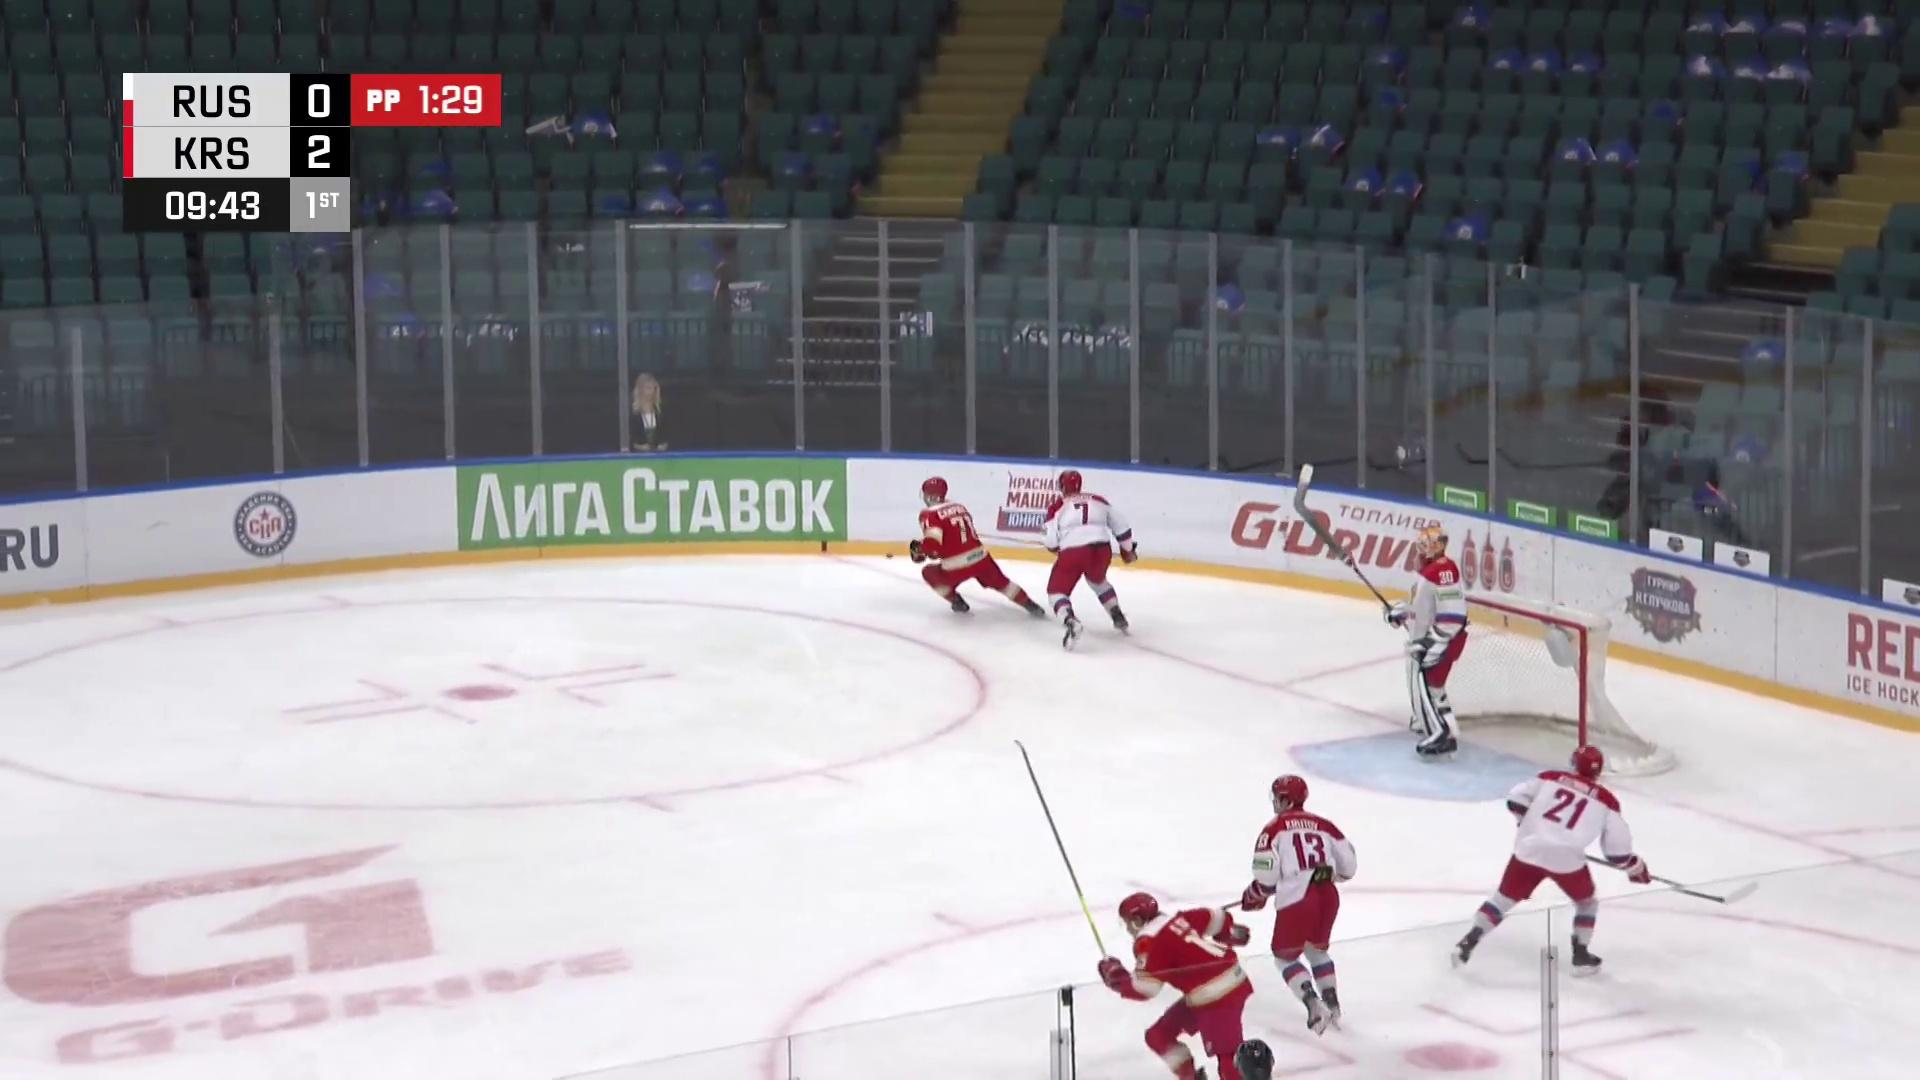ball: (882, 550, 893, 559)
